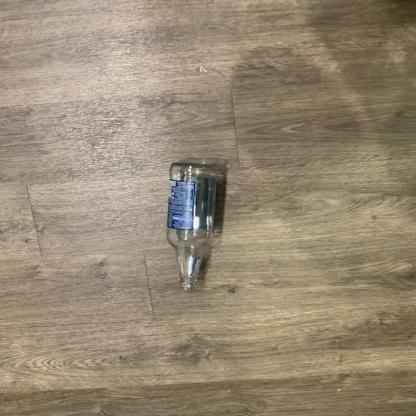trash: (168, 162, 220, 291)
